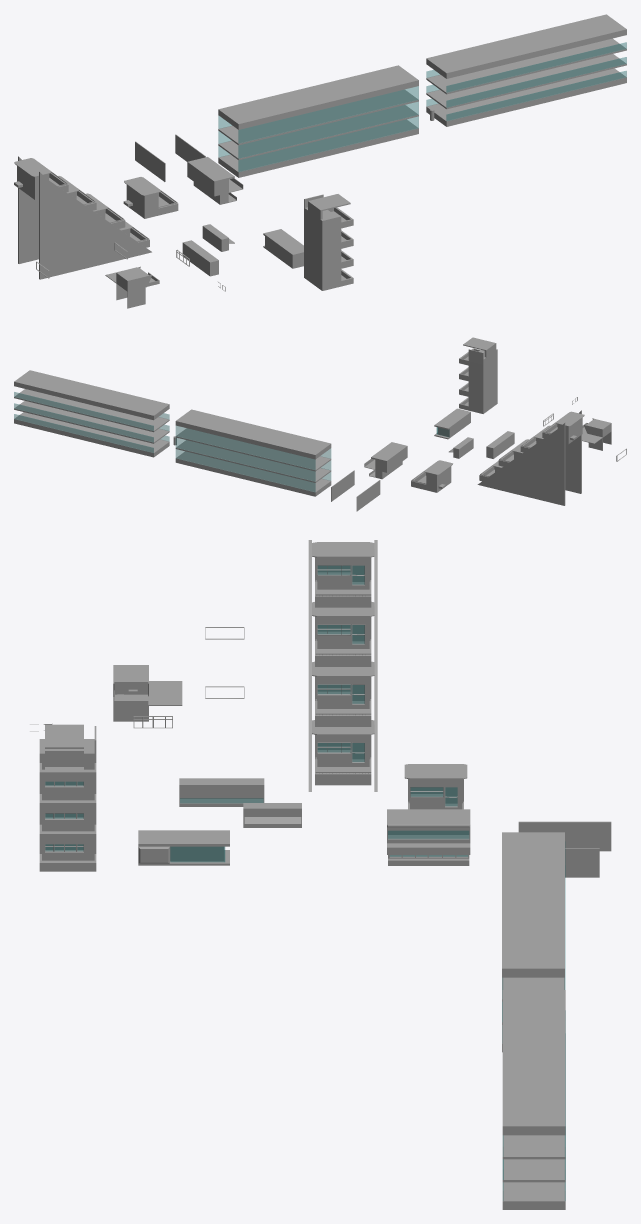
The model's file is The lian asste.fbx.
3 views of the same model, one above another, from view 1: azimuth 30°, elevation 25°; view 2: azimuth 150°, elevation 25°; view 3: azimuth 270°, elevation 25° (orthographic). The views are drawn at different scales.
Parts seen in each view (by area): view 1: pCube29 (×2), pCube31 (×2), pCube13, pCube32 (×2), pCube30 (×2), polySurface19, pCube33 (×2), pCube34 (×2), pCube35 (×2), polySurface47, polySurface16, pCube12 (+8 smaller); view 2: pCube29 (×2), pCube31 (×2), pCube12, pCube32 (×2), pCube30 (×2), polySurface19, pCube38 (×2), pCube37 (×2), pCube36 (×2), polySurface47, pCube13, polySurface16 (+8 smaller); view 3: pCube29 (×2), polySurface19, polySurface47, polySurface45, polySurface11, polySurface33, polySurface29, pCube41, polySurface3, polySurface16, pCube44, pCube2 (+7 smaller).
Part boxes in pixels (left/top/right/bottom): pCube29 (×2): left=218, top=14, right=626, bottom=129; pCube31 (×2): left=218, top=68, right=626, bottom=177; pCube13: left=39, top=172, right=151, bottom=279; pCube32 (×2): left=218, top=38, right=626, bottom=145; pCube30 (×2): left=218, top=54, right=626, bottom=160; polySurface19: left=304, top=194, right=353, bottom=290; pCube33 (×2): left=238, top=42, right=626, bottom=143; pCube34 (×2): left=238, top=57, right=626, bottom=158; pCube35 (×2): left=238, top=71, right=626, bottom=171; polySurface47: left=187, top=157, right=243, bottom=204; polySurface16: left=123, top=177, right=178, bottom=218; pCube12: left=18, top=156, right=38, bottom=263; pCube29 (×2): left=14, top=370, right=331, bottom=459; pCube31 (×2): left=14, top=412, right=331, bottom=496; pCube12: left=477, top=422, right=565, bottom=505; pCube32 (×2): left=14, top=389, right=331, bottom=471; pCube30 (×2): left=14, top=401, right=331, bottom=482; polySurface19: left=459, top=337, right=497, bottom=413; pCube38 (×2): left=14, top=392, right=315, bottom=469; pCube37 (×2): left=14, top=403, right=315, bottom=481; pCube36 (×2): left=14, top=414, right=315, bottom=491; polySurface47: left=364, top=442, right=407, bottom=479; pCube13: left=565, top=410, right=581, bottom=493; polySurface16: left=411, top=460, right=452, bottom=492; pCube29 (×2): left=502, top=832, right=565, bottom=1135; polySurface19: left=39, top=724, right=96, bottom=871; polySurface47: left=387, top=809, right=470, bottom=865; polySurface45: left=312, top=542, right=374, bottom=607; polySurface11: left=312, top=601, right=374, bottom=666; polySurface33: left=312, top=661, right=374, bottom=726; polySurface29: left=312, top=720, right=374, bottom=785; pCube41: left=138, top=830, right=229, bottom=865; polySurface3: left=113, top=665, right=182, bottom=721; polySurface16: left=404, top=764, right=467, bottom=809; pCube44: left=179, top=778, right=264, bottom=806; pCube2: left=518, top=821, right=611, bottom=851.
Size of the model in its own units: 278 by 45.28 by 134.
